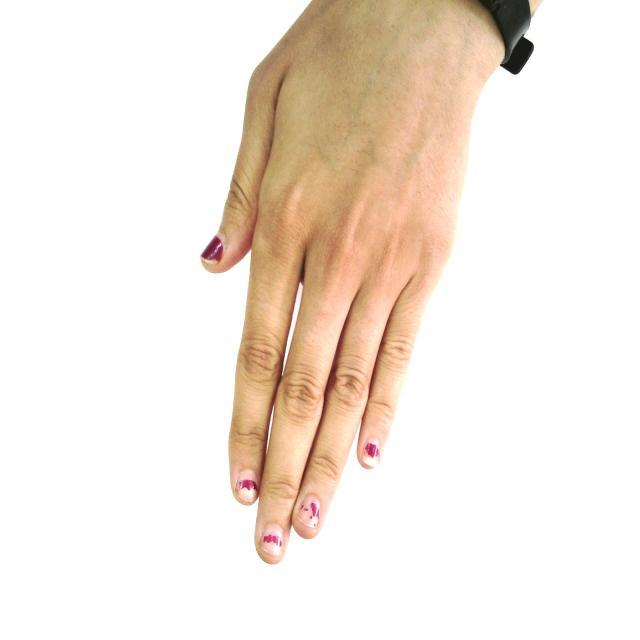Fingernail: (297, 496, 319, 527), (262, 525, 283, 557), (238, 472, 257, 503), (202, 237, 222, 261), (364, 441, 380, 463)
